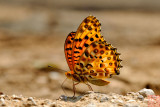Argyreus hyperbius: (43, 12, 122, 96)
butterfly: (45, 14, 124, 98)
